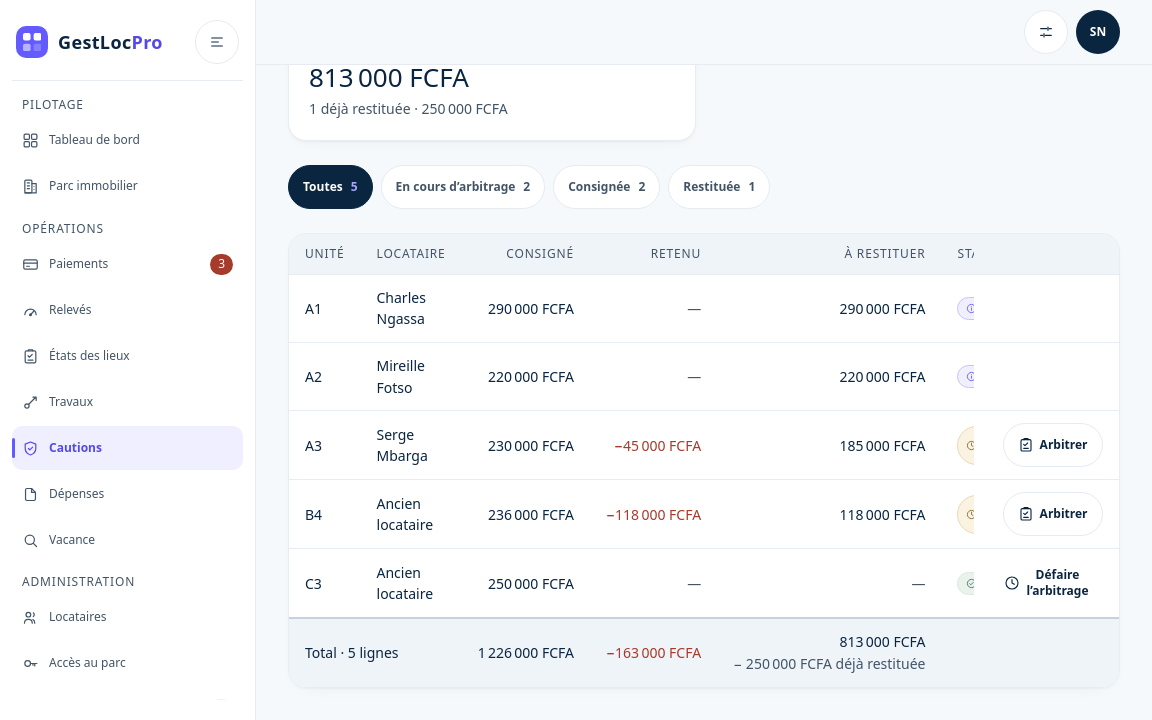
arbitrage d’une caution › refuse une retenue supérieure à la caution
This screenshot has width=1152, height=720.
(page scrolled)
Click the button "Arbitrer" in the row of "A3": (1053, 445) [1003,423,1103,467]
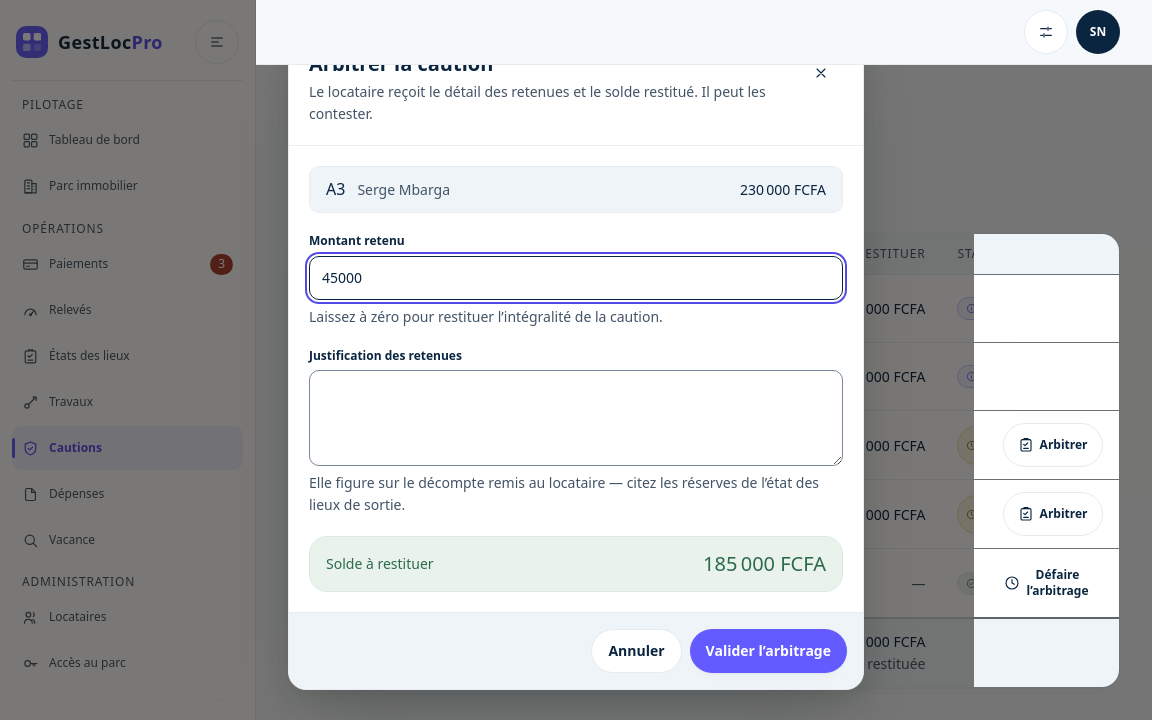
Replace the text in the field labelled "Montant retenu" with "999999": (576, 278) [309,256,843,300]
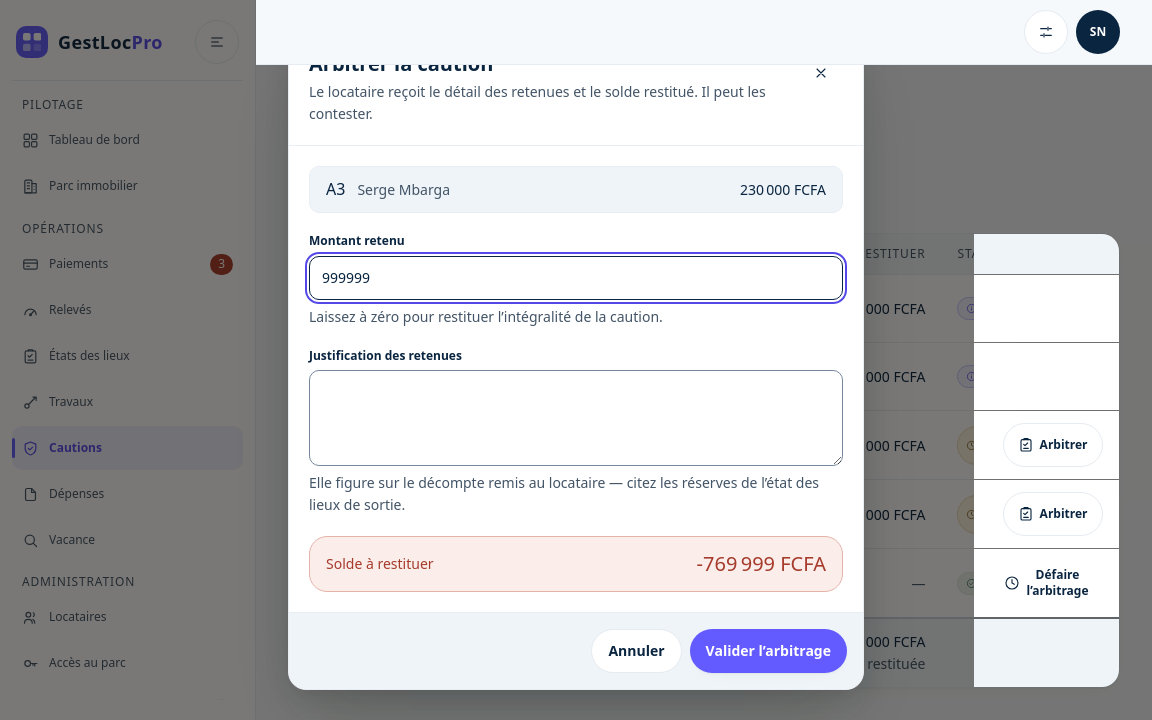
Click the button "Valider l’arbitrage": (768, 651) [690,629,847,673]
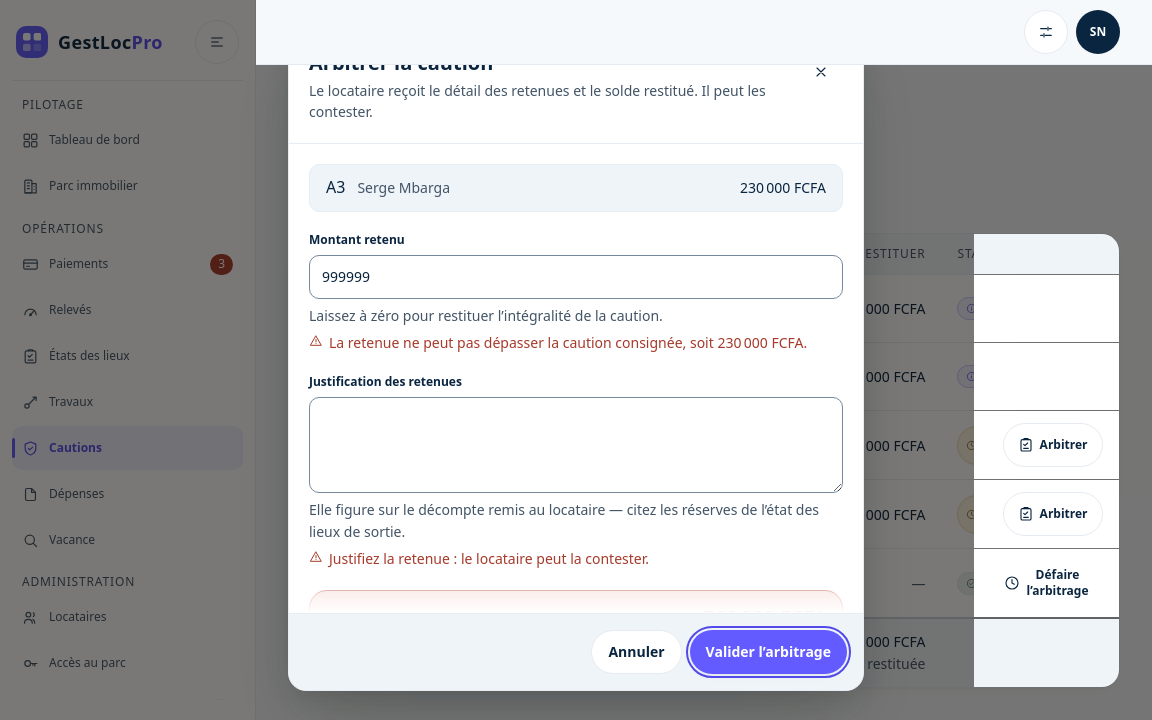
Now the text "La retenue ne peut pas dépasser la caution consignée, soit 230 000 FCFA." is shown, box [309,332,843,354]
